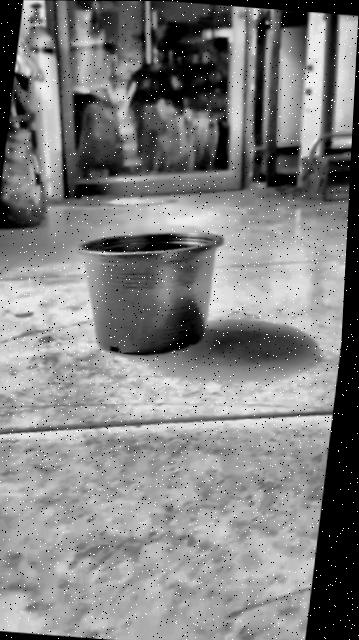pot: (63, 222, 222, 359)
